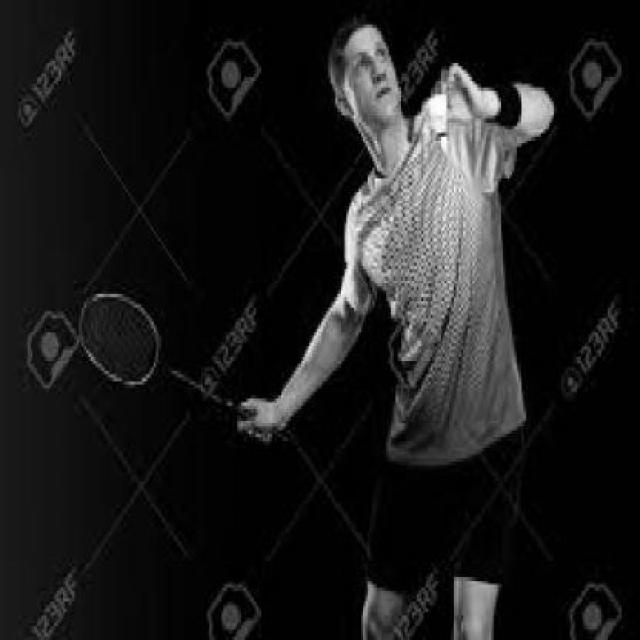Shuttlecock: (426, 94, 451, 152)
